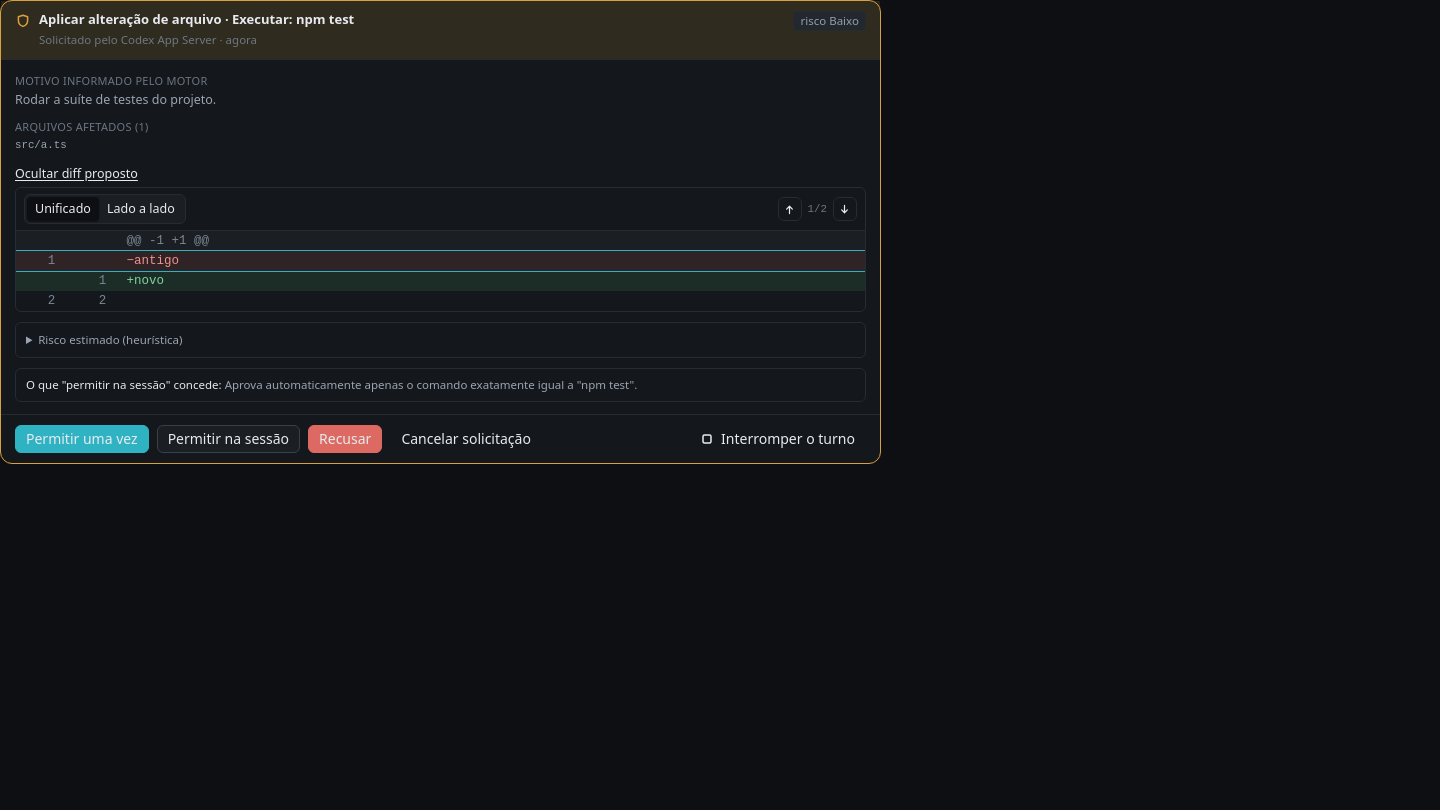
Test: ApprovalQueue › mostra o diff proposto e permite ocultar
The width and height of the screenshot is (1440, 810).
Expected: the text "−antigo" is shown, [126,254,179,268]
Expected: the text "+novo" is shown, [126,274,164,288]
Click the button "Ocultar diff proposto".
click(76, 173)  # box [15,164,138,183]
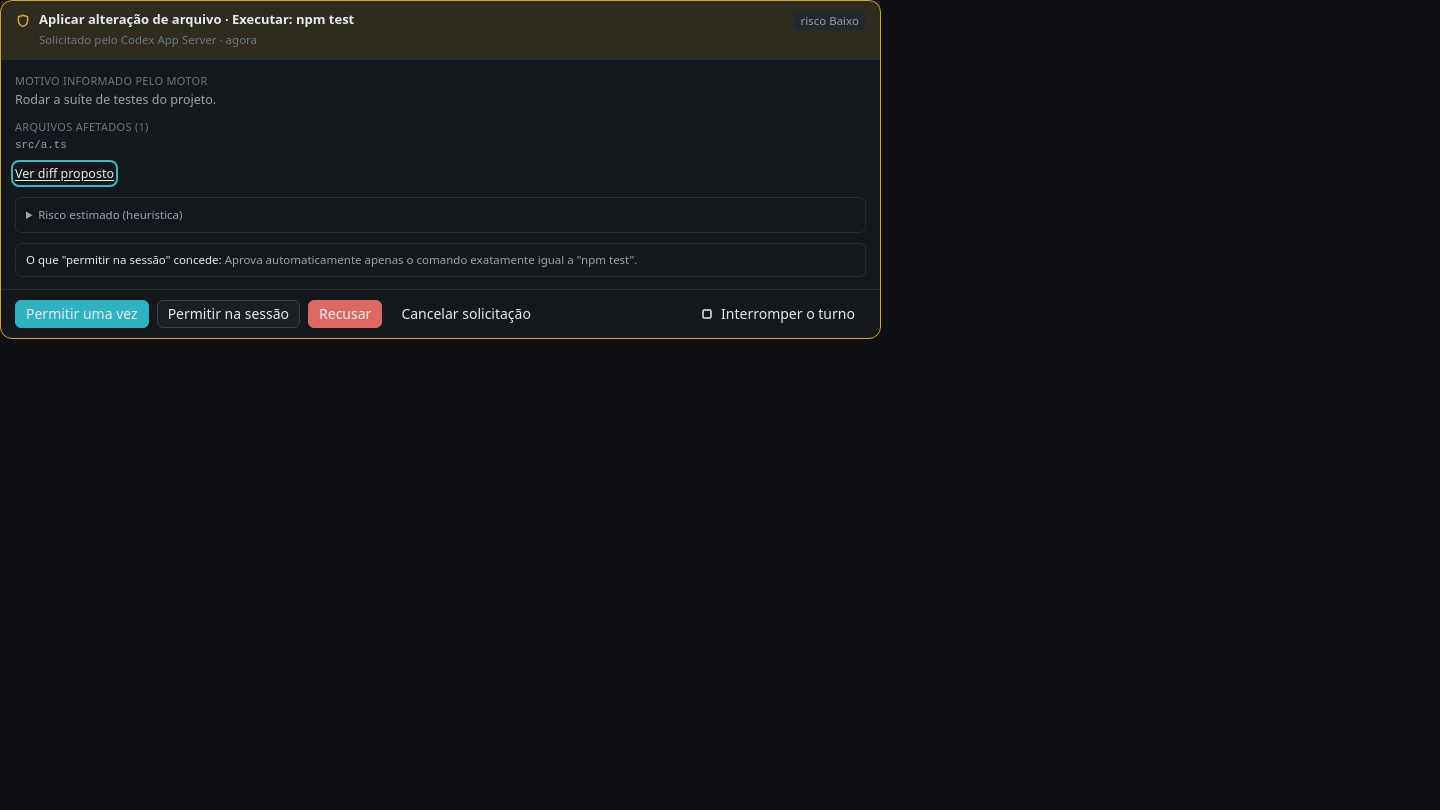
Now the text "−antigo" is gone
